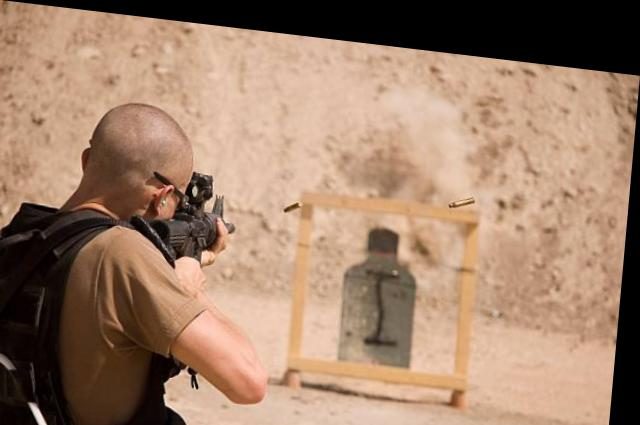other: (0, 78, 258, 424)
